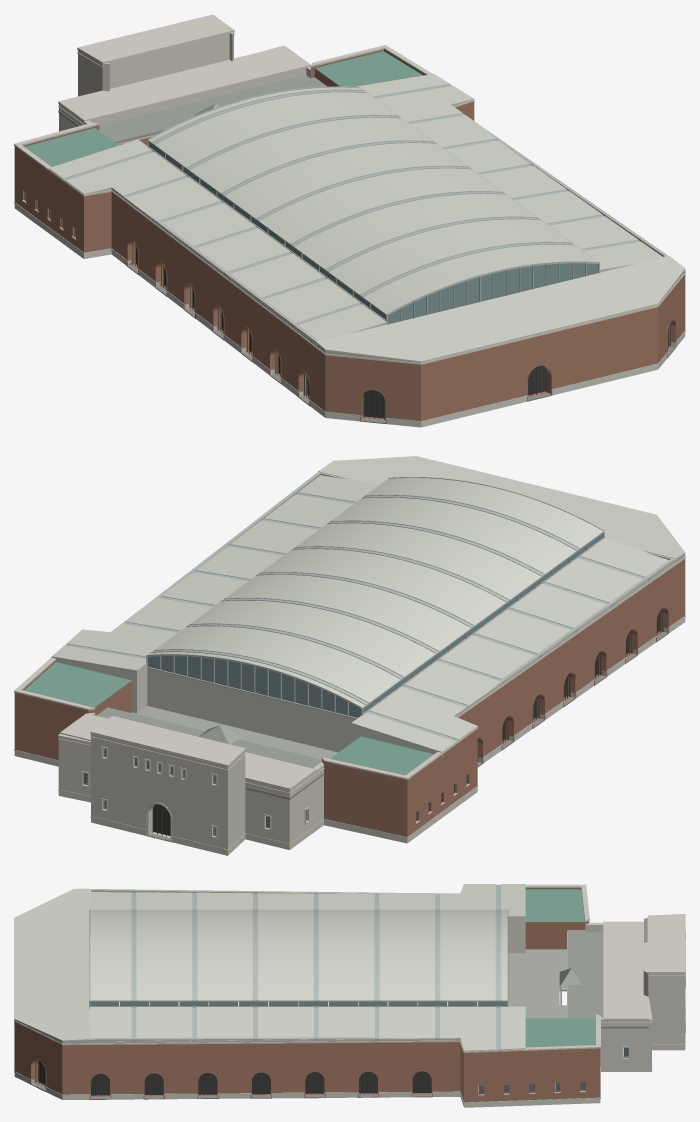
Rendered from yangpu-jiangwan-swimming-hall-web.glb.
3 views of the same model, one above another, from view 1: azimuth 30°, elevation 25°; view 2: azimuth 150°, elevation 25°; view 3: azimuth 270°, elevation 25° (orthographic). The views are drawn at different scales.
Visible parts, largest first — view 1: 江湾游泳馆（历史池馆与现状屋盖）; view 2: 江湾游泳馆（历史池馆与现状屋盖）; view 3: 江湾游泳馆（历史池馆与现状屋盖）.
Part boxes in pixels (box(x1,y1,x2,y2)): 江湾游泳馆（历史池馆与现状屋盖）: box(14, 14, 685, 427); 江湾游泳馆（历史池馆与现状屋盖）: box(14, 456, 685, 855); 江湾游泳馆（历史池馆与现状屋盖）: box(14, 884, 685, 1107).
Size of the model in its own units: 54.68 by 12.87 by 92.93.
